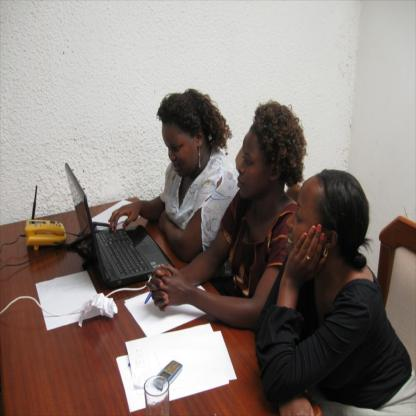board: (63, 161, 177, 288)
